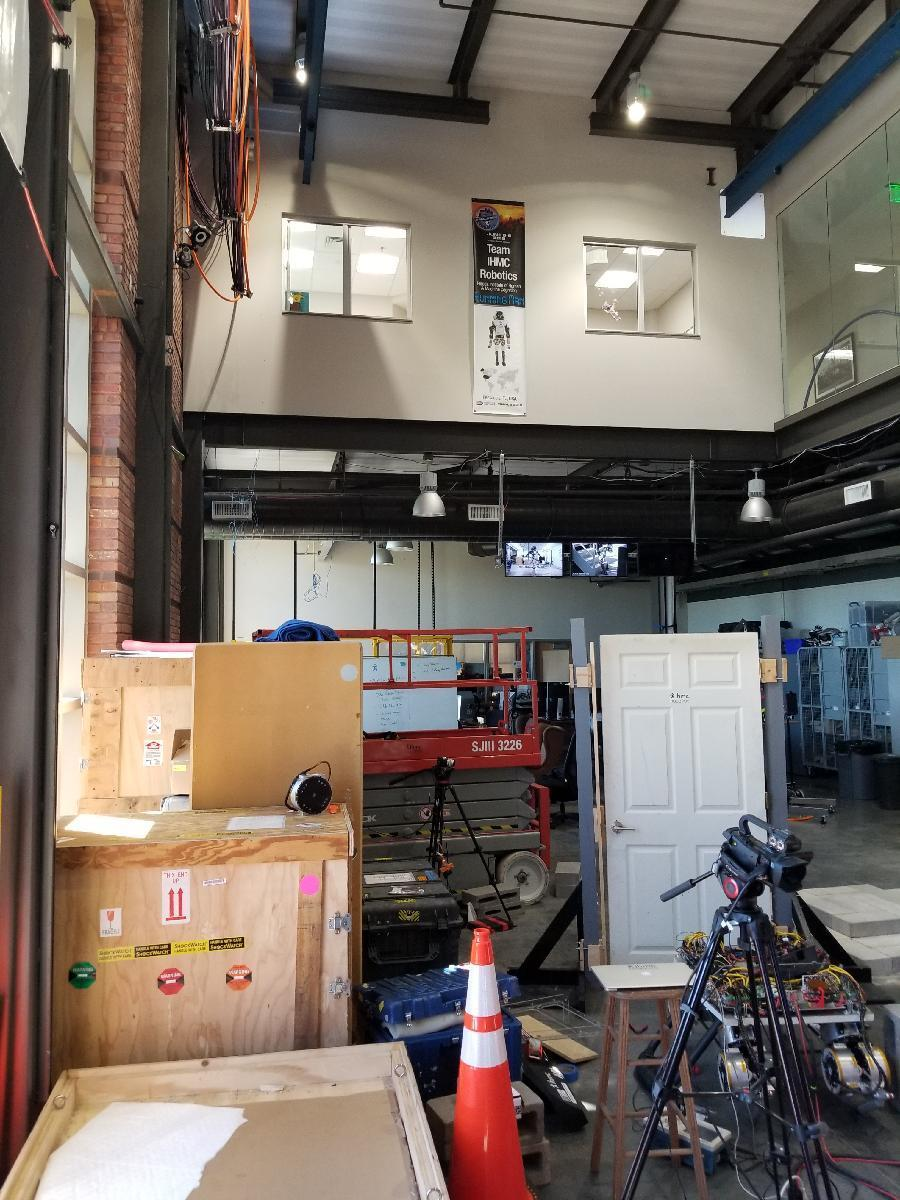door: (596, 628, 769, 973)
